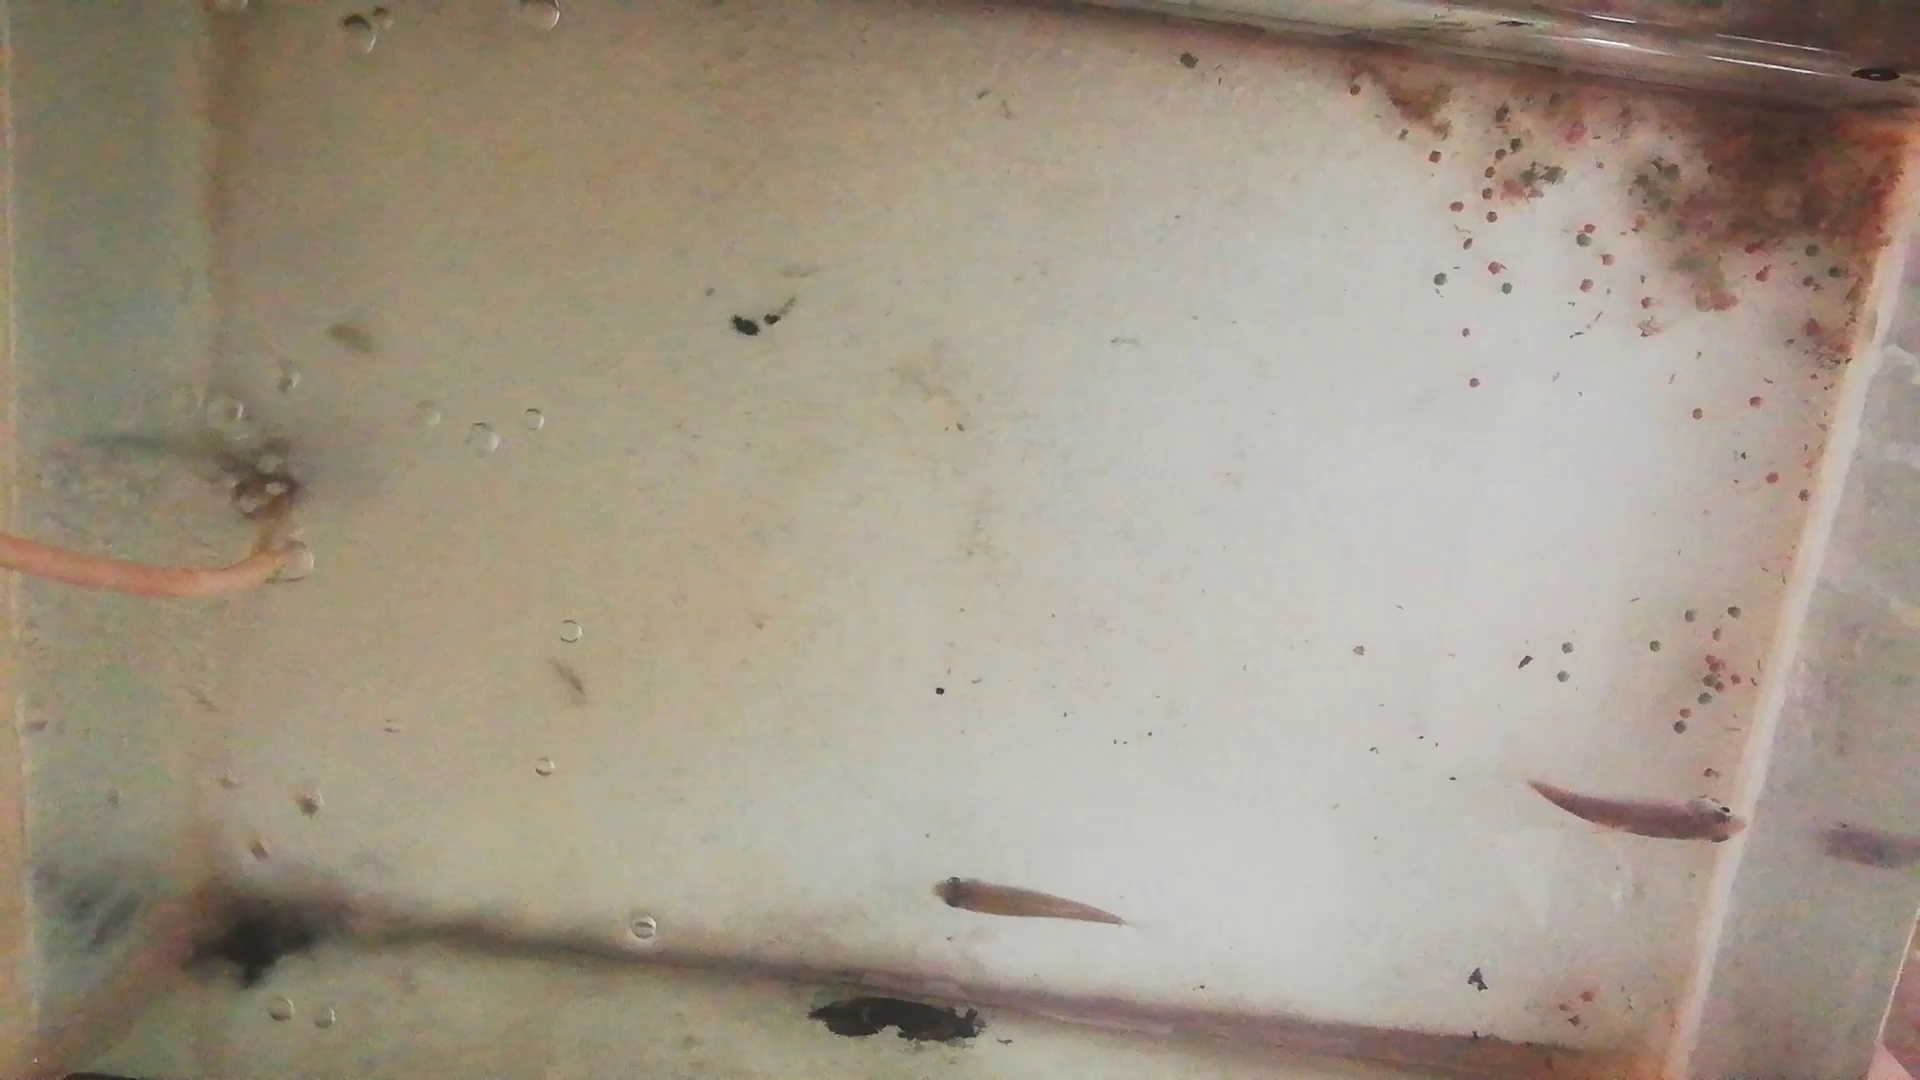fish: (1531, 774, 1745, 847), (928, 877, 1122, 924)
